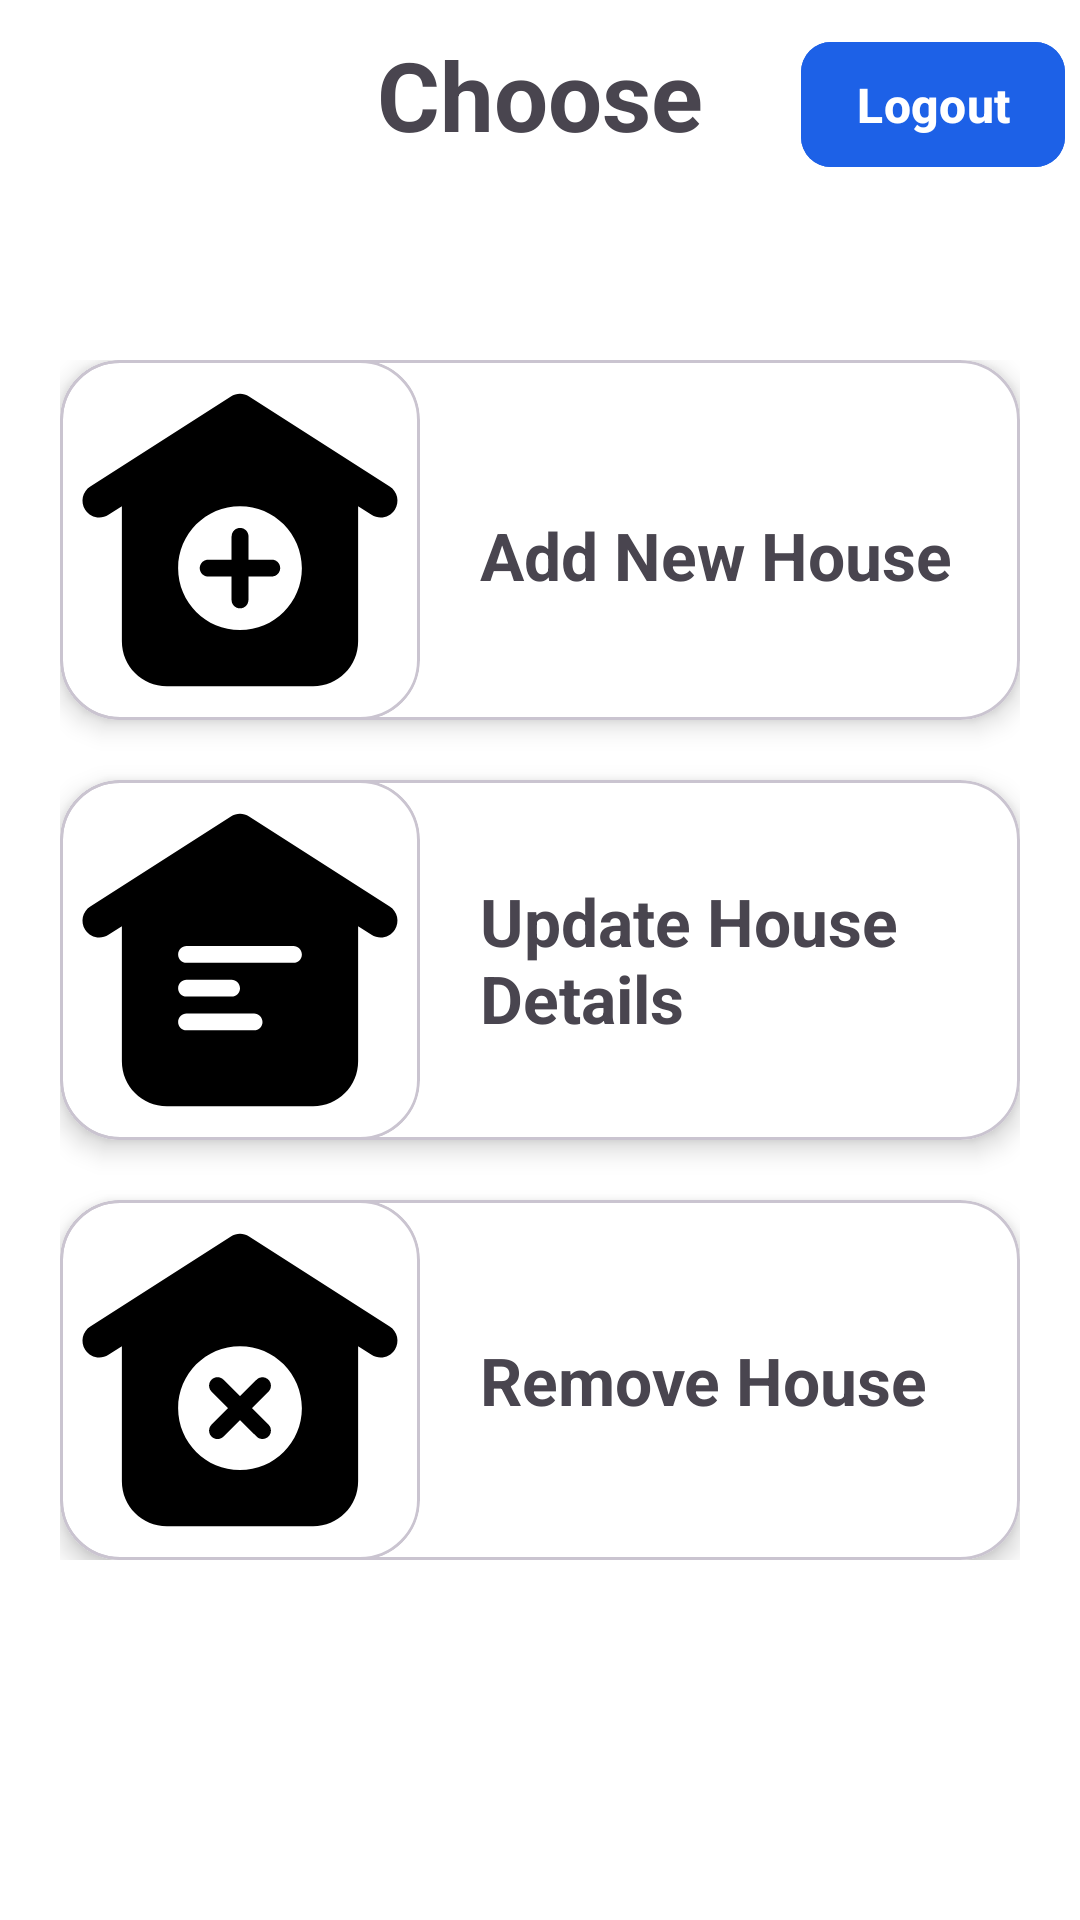

Icon click points for this 1080 x 1920 phone screenshot, format (x=x, y=y):
add home: (x=240, y=540)
edit home: (x=240, y=960)
remove home: (x=240, y=1380)
